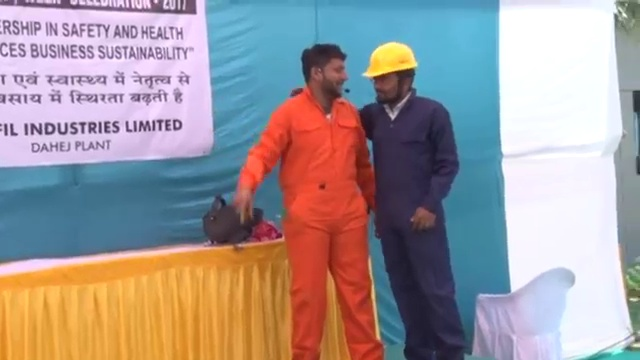helmet: (360, 43, 419, 78)
helmet_off: (302, 41, 353, 102)
helmet_on: (360, 42, 421, 107)
person: (239, 41, 379, 360), (356, 38, 472, 360)
